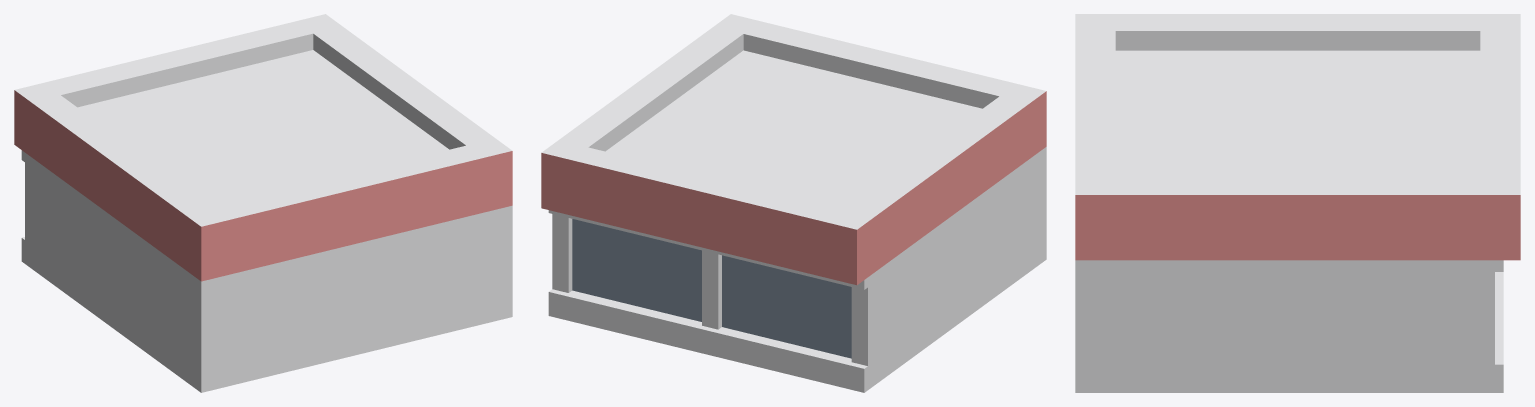
Rendered from pit_office.glb.
The picture shows the model from 3 angles, left to right: view 1: azimuth 30°, elevation 25°; view 2: azimuth 150°, elevation 25°; view 3: azimuth 270°, elevation 25°; orthographic projection. The views are drawn at different scales.
Parts seen in each view (by area): view 1: pitsOffice; view 2: pitsOffice; view 3: pitsOffice.
Part boxes in pixels (<box>): pitsOffice: <box>14,14,512,392</box>; pitsOffice: <box>541,14,1046,392</box>; pitsOffice: <box>1075,14,1520,392</box>.
Bounding box in the file's own units: 1 × 0.51 × 1.04.
